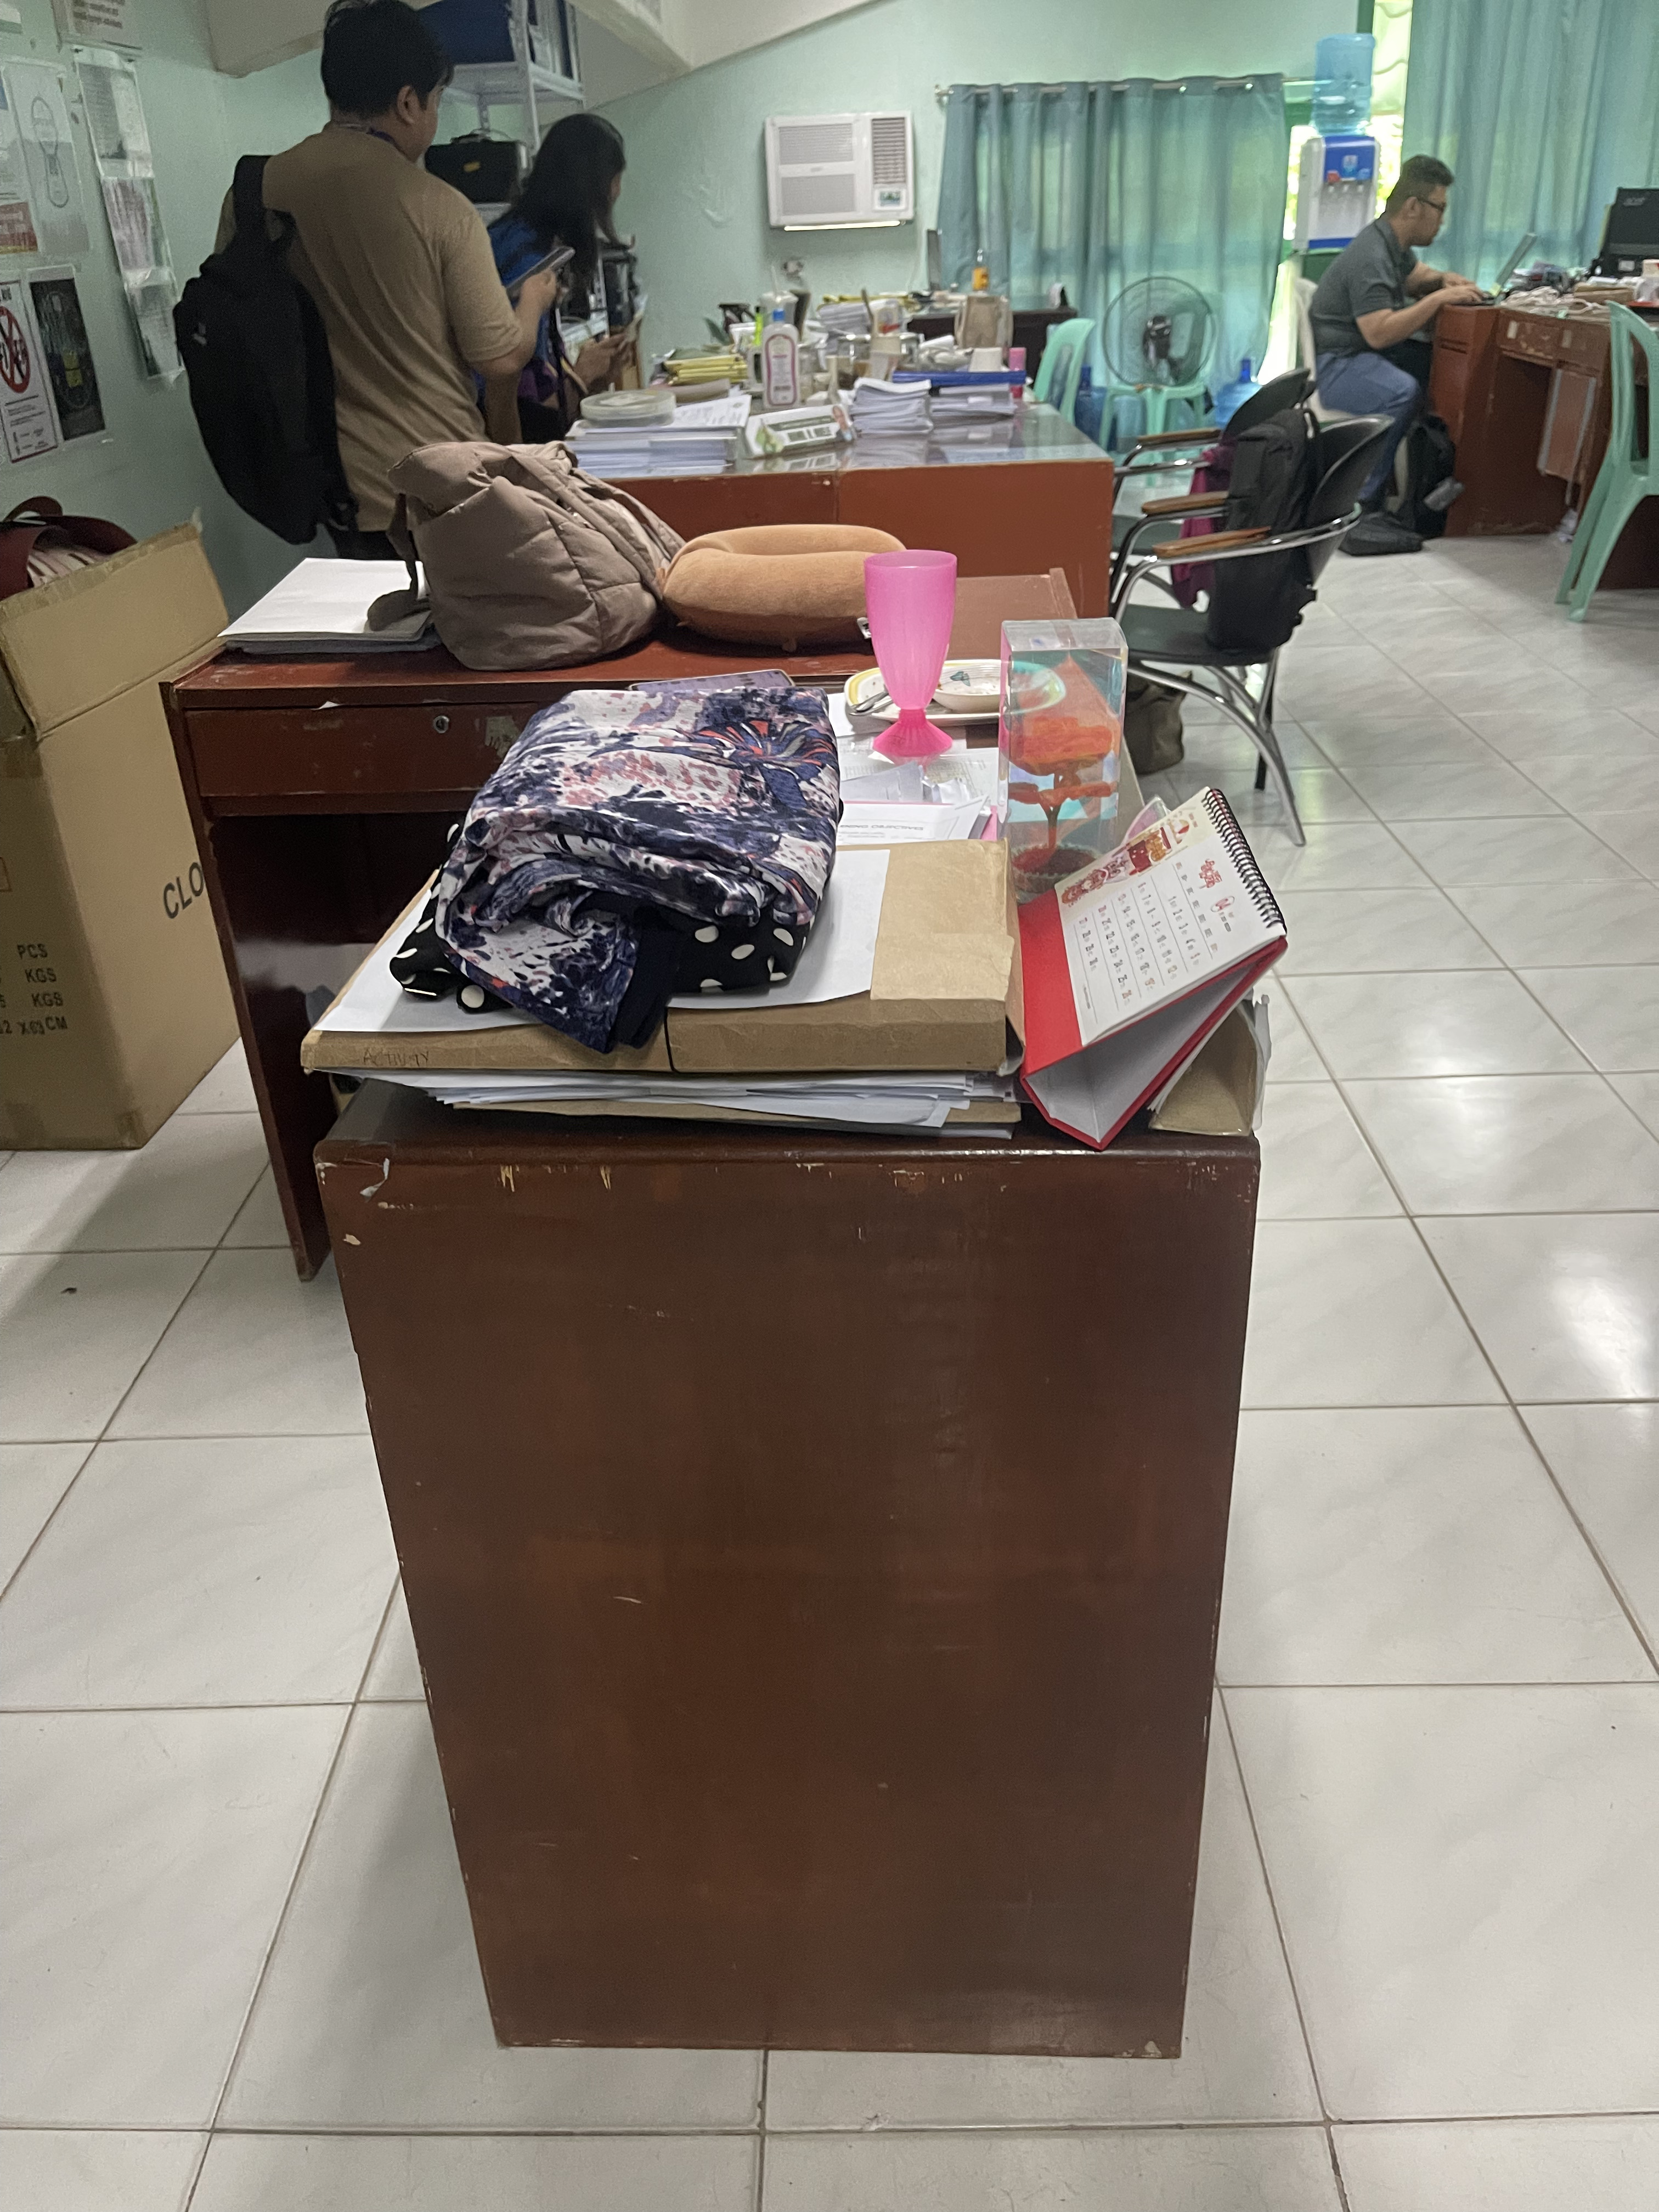table2: (286, 1129, 1272, 2163)
